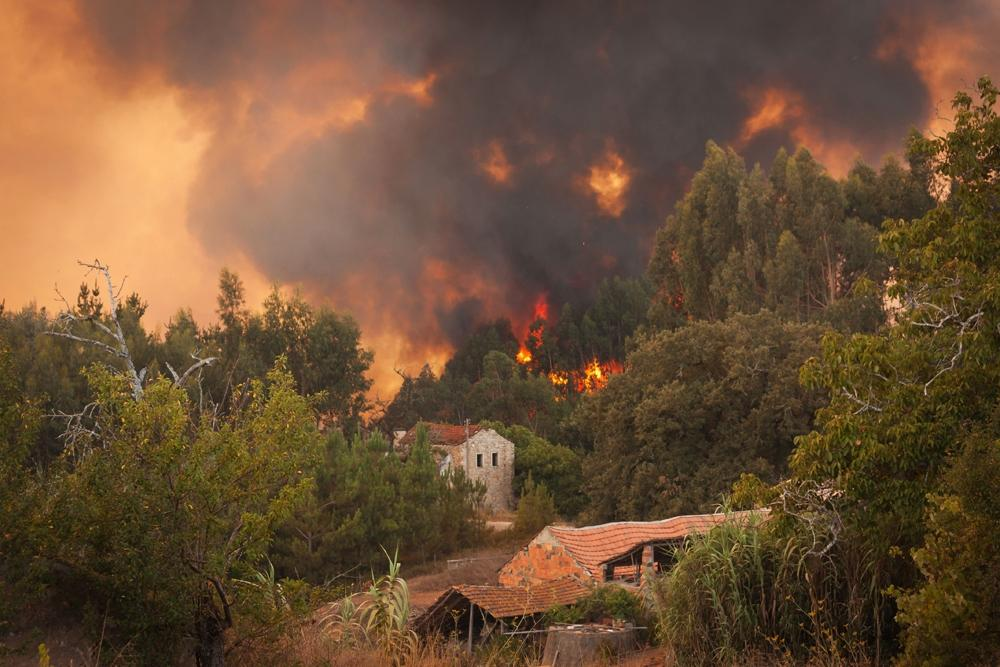fire: (502, 287, 666, 424)
